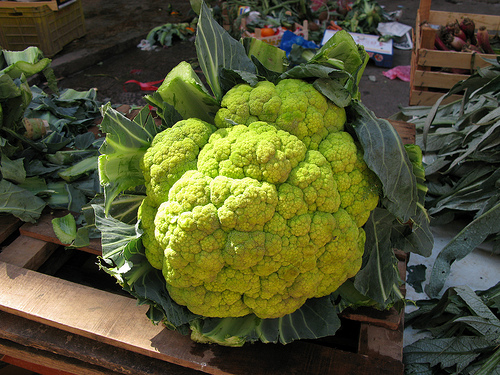cauliflower: (135, 74, 384, 320)
